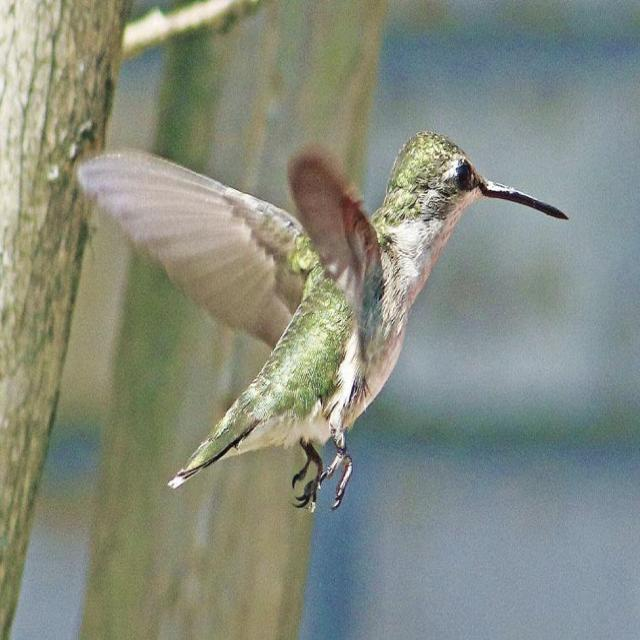hummingbird: (78, 132, 568, 511)
